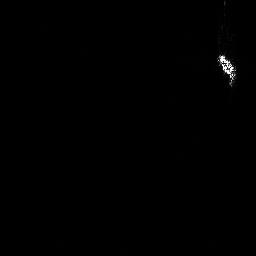ship: (215, 51, 237, 88)
